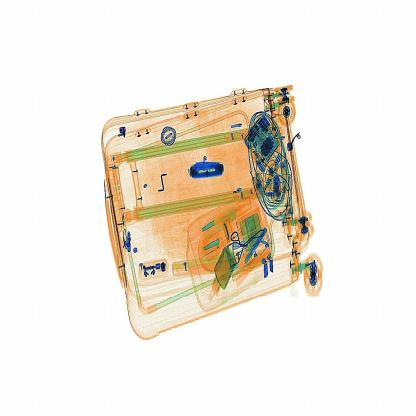scissors: (188, 149, 233, 188)
